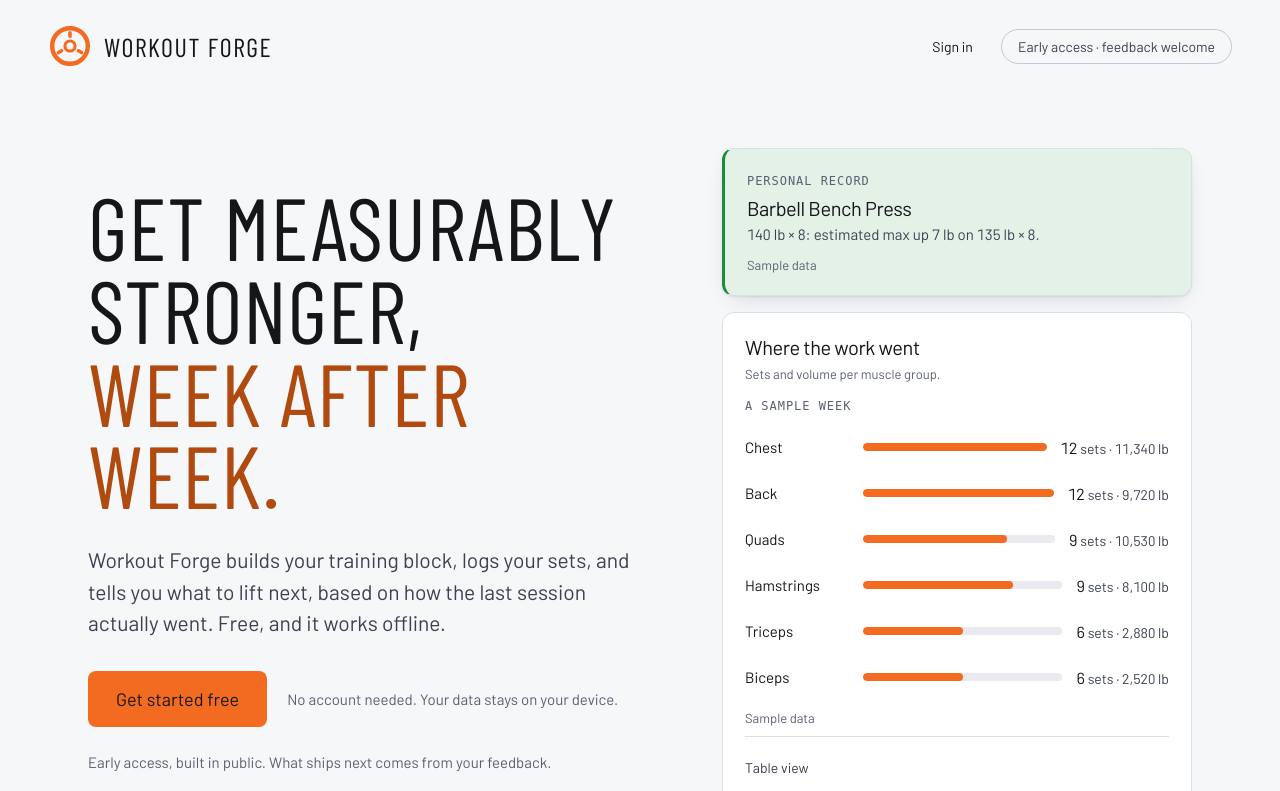
Test: Workout Forge gym flow › offers 2, 3 and 4 days and 4, 6, 8 or 12 weeks, and nothing else
The image size is (1280, 791).
Click the button "Get started free": click(178, 699) left=88, top=671, right=267, bottom=727
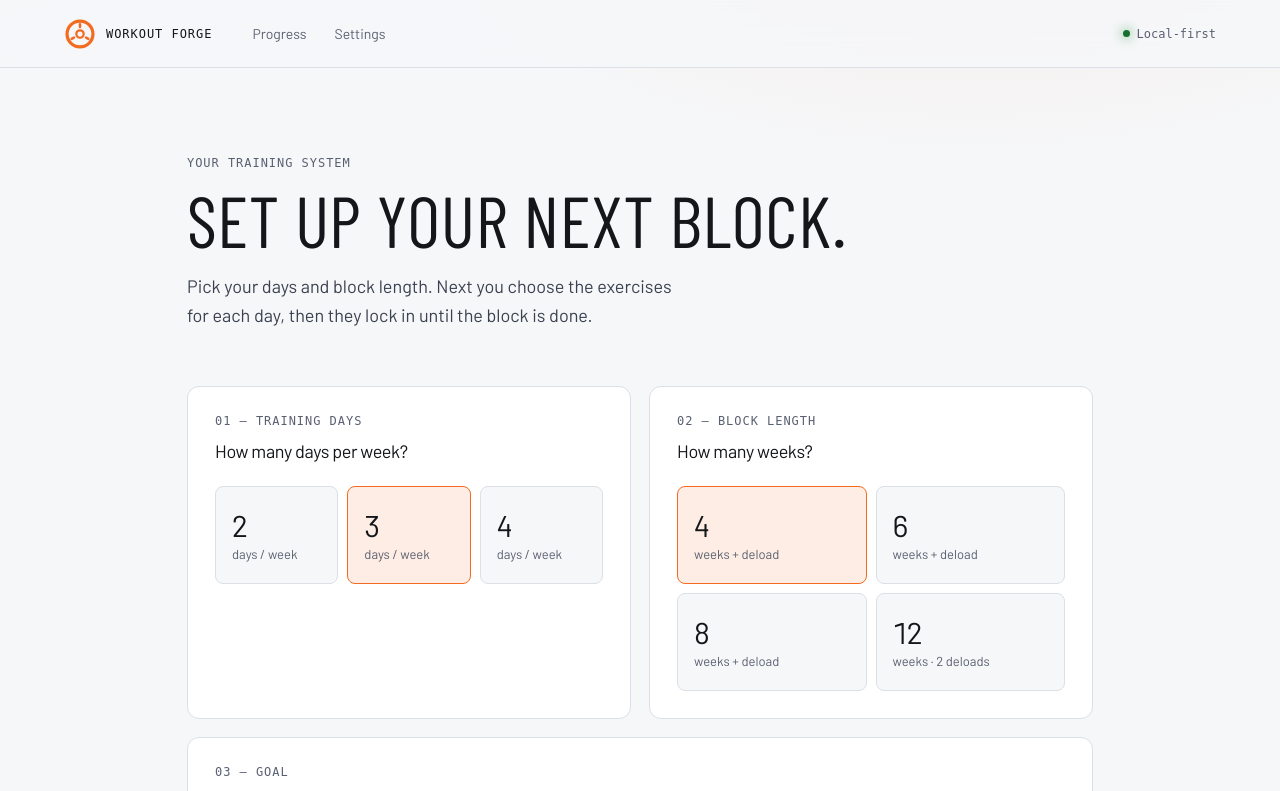
Click the button "2 days / week": click(277, 535) left=215, top=486, right=338, bottom=584
(page scrolled)
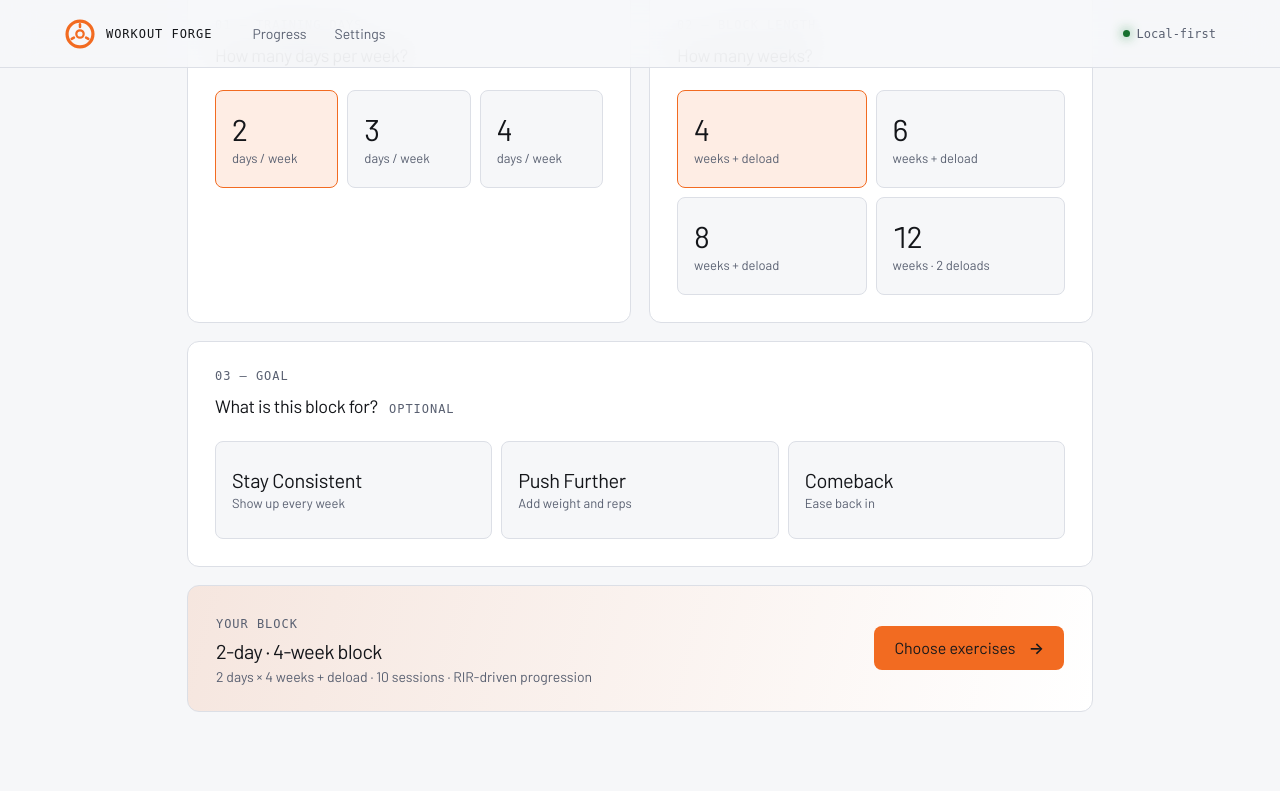
Check: the text "10 sessions" is shown, box left=216, top=668, right=592, bottom=685
